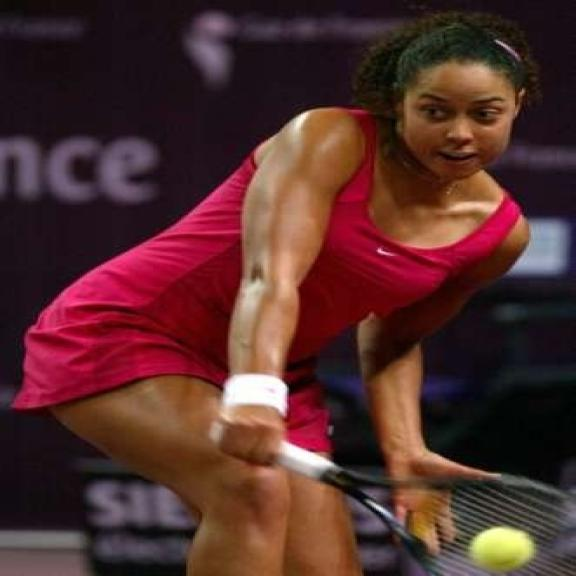face: (377, 54, 530, 184)
